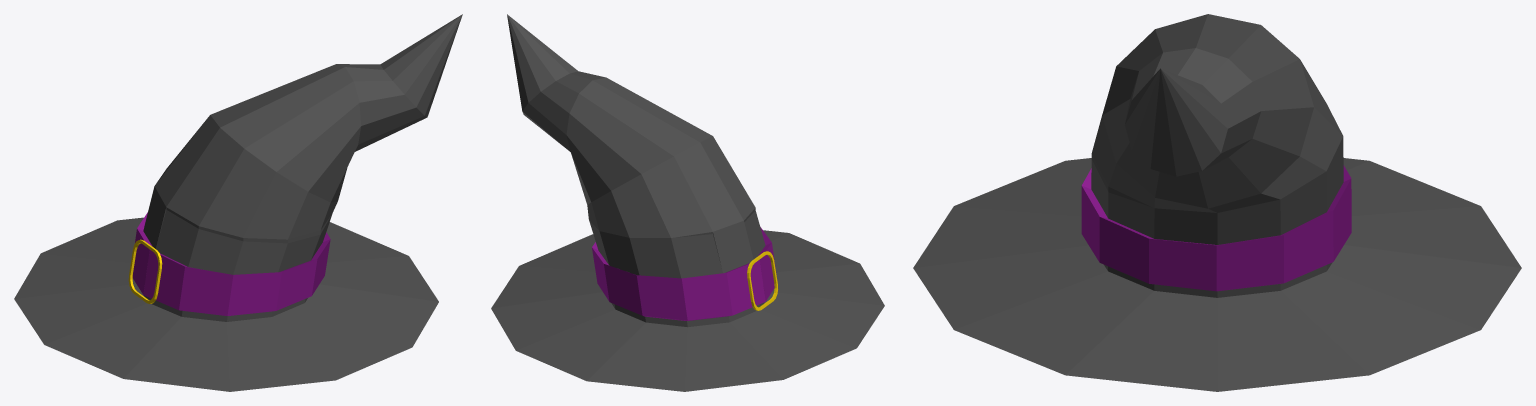
File: GorraBruja.fbx
3 views of the same model, side by side, from view 1: azimuth 30°, elevation 25°; view 2: azimuth 150°, elevation 25°; view 3: azimuth 270°, elevation 25° (orthographic). The views are drawn at different scales.
Parts seen in each view (by area): view 1: GorraBruja; view 2: GorraBruja; view 3: GorraBruja.
Boxes of the visible parts, box(x1,y1,x2,y2) form: GorraBruja: box(14, 14, 462, 391); GorraBruja: box(491, 14, 884, 391); GorraBruja: box(913, 14, 1521, 391).
Bounding box in the file's own units: 2.42 × 1.44 × 2.3.
